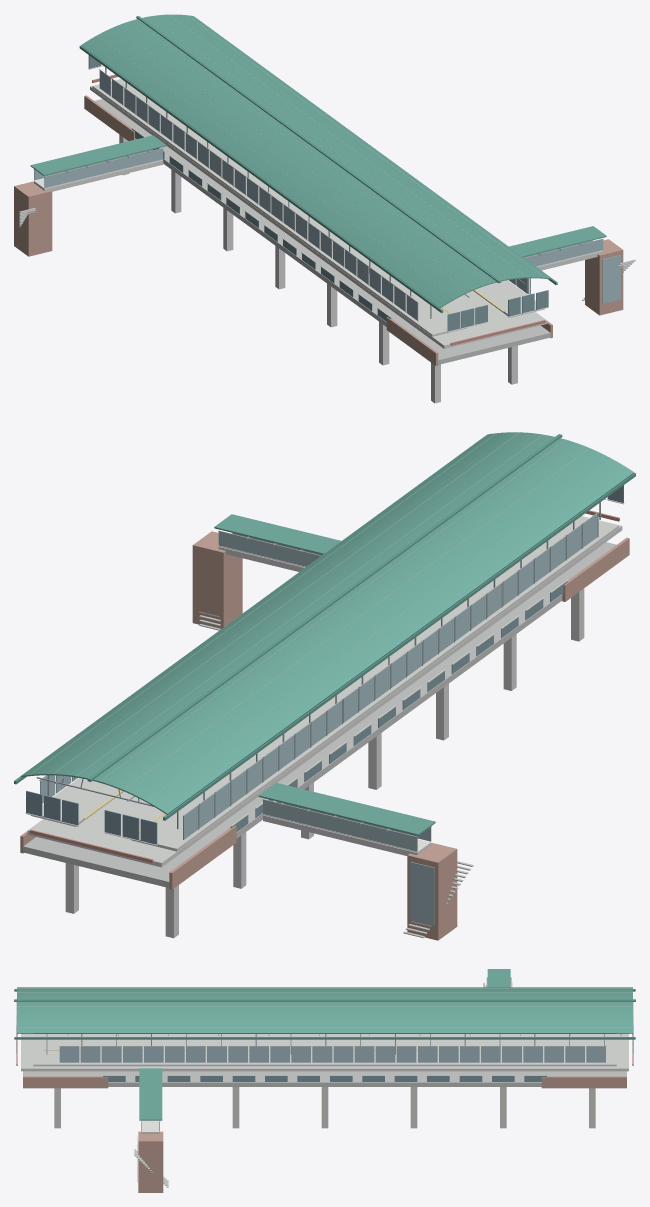
The picture shows the model from 3 angles, top to bottom: view 1: azimuth 30°, elevation 25°; view 2: azimuth 150°, elevation 25°; view 3: azimuth 270°, elevation 25°; orthographic projection. The views are drawn at different scales.
Parts seen in each view (by area): view 1: MRT6 station 0 concept geometry; view 2: MRT6 station 0 concept geometry; view 3: MRT6 station 0 concept geometry.
Boxes of the visible parts, left/top/right/bottom form: MRT6 station 0 concept geometry: left=14, top=14, right=635, bottom=403; MRT6 station 0 concept geometry: left=14, top=432, right=635, bottom=940; MRT6 station 0 concept geometry: left=14, top=969, right=635, bottom=1192.
Bounding box in the file's own units: 101 × 30.19 × 154.
